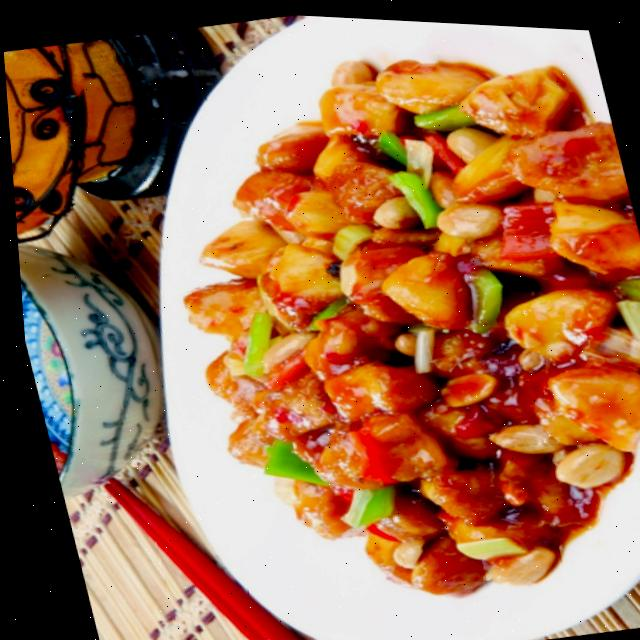鸡肉料理 含炸鸡: (140, 9, 640, 640)
